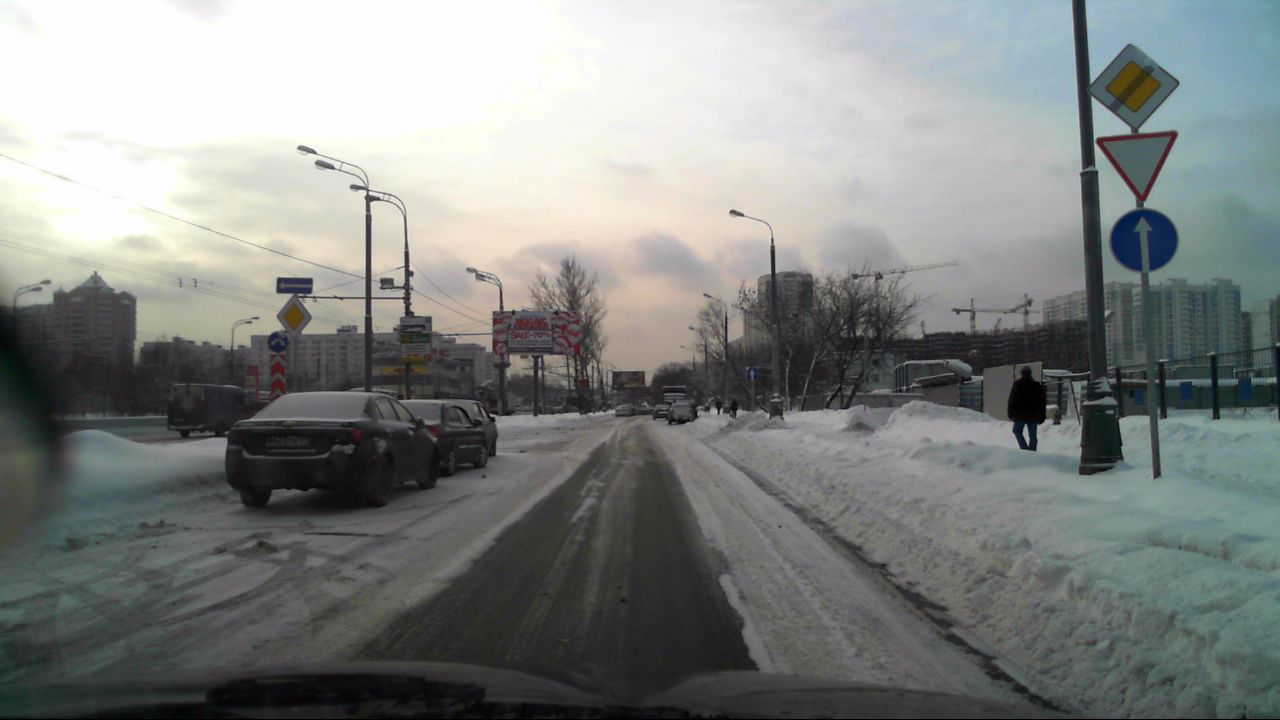main road: (1086, 41, 1183, 133)
